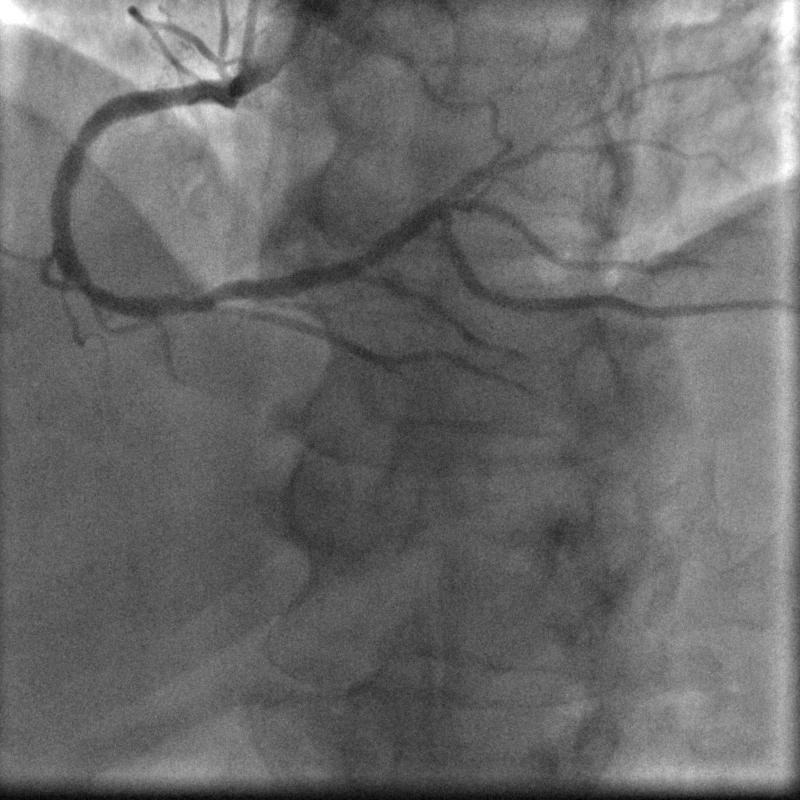Stenosis: (145, 277, 230, 310)
